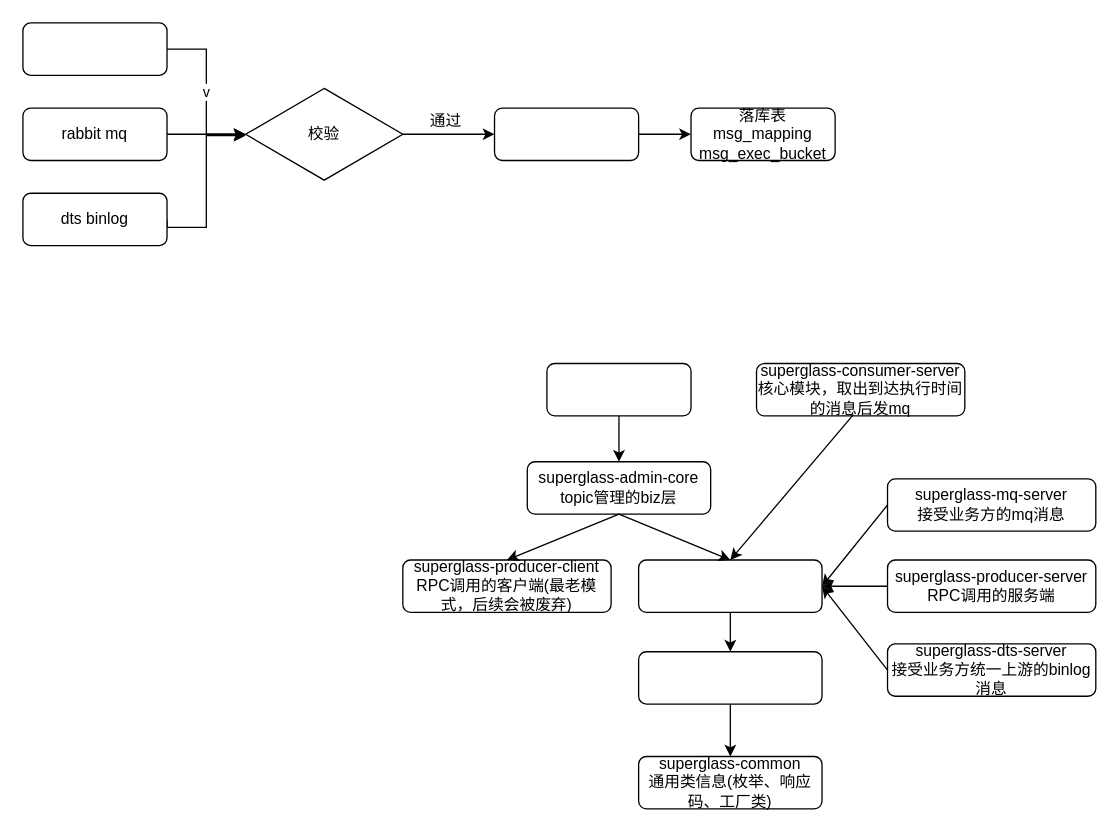
Some shapes in this 1119 by 833 pixel diagram are drawn without their labels. Each missing label, with the box of its shape:
SDK RPC: (22, 22, 167, 75)
superglass-admin topic管理的http接口: (546, 362, 691, 416)
superglass-broker 工具类和dal层的一些共用接口: (637, 650, 822, 704)
superglass-broker-mysql 数据库dal层: (637, 559, 822, 612)
集群路由: (493, 107, 639, 160)
